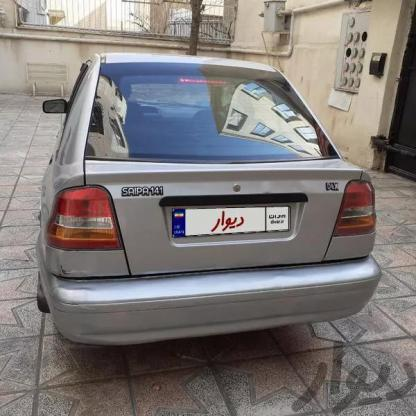Car: (26, 38, 380, 354)
